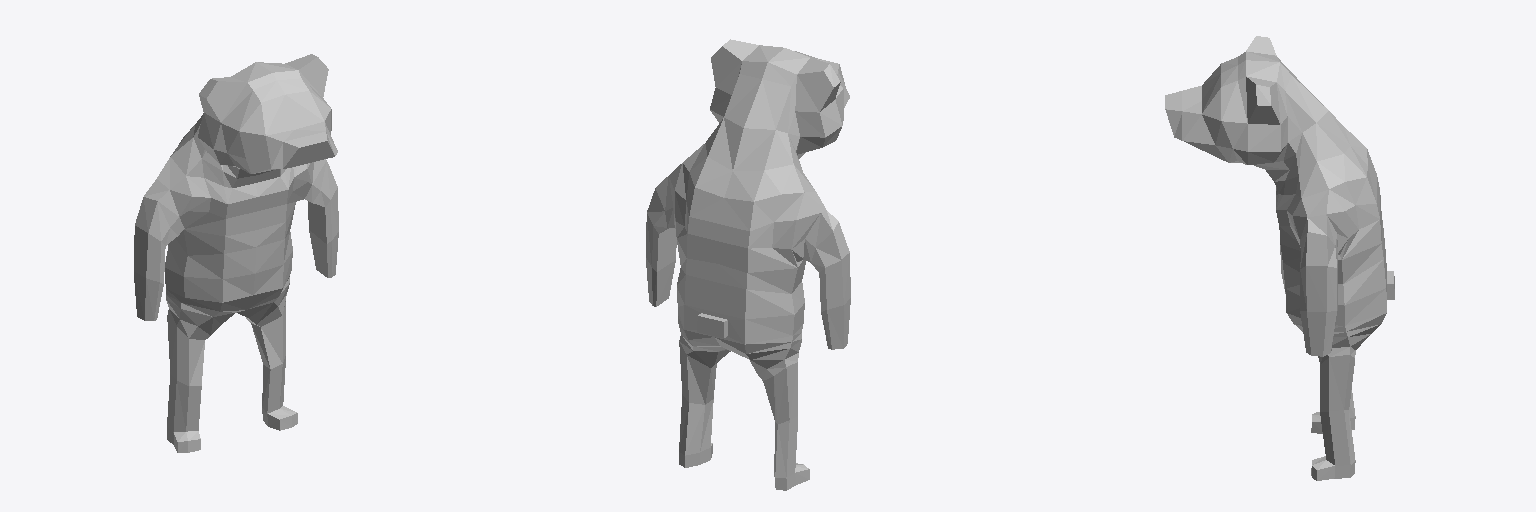
File: bear.obj
3 views of the same model, side by side, from view 1: azimuth 30°, elevation 25°; view 2: azimuth 150°, elevation 25°; view 3: azimuth 270°, elevation 25° (orthographic).
Parts seen in each view (by area): view 1: bear; view 2: bear; view 3: bear.
Boxes of the visible parts, x1=… form: bear: x1=134, y1=54, x2=338, y2=452; bear: x1=646, y1=39, x2=850, y2=490; bear: x1=1165, y1=36, x2=1394, y2=480.
Bounding box in the file's own units: 2029 × 3831 × 2035.